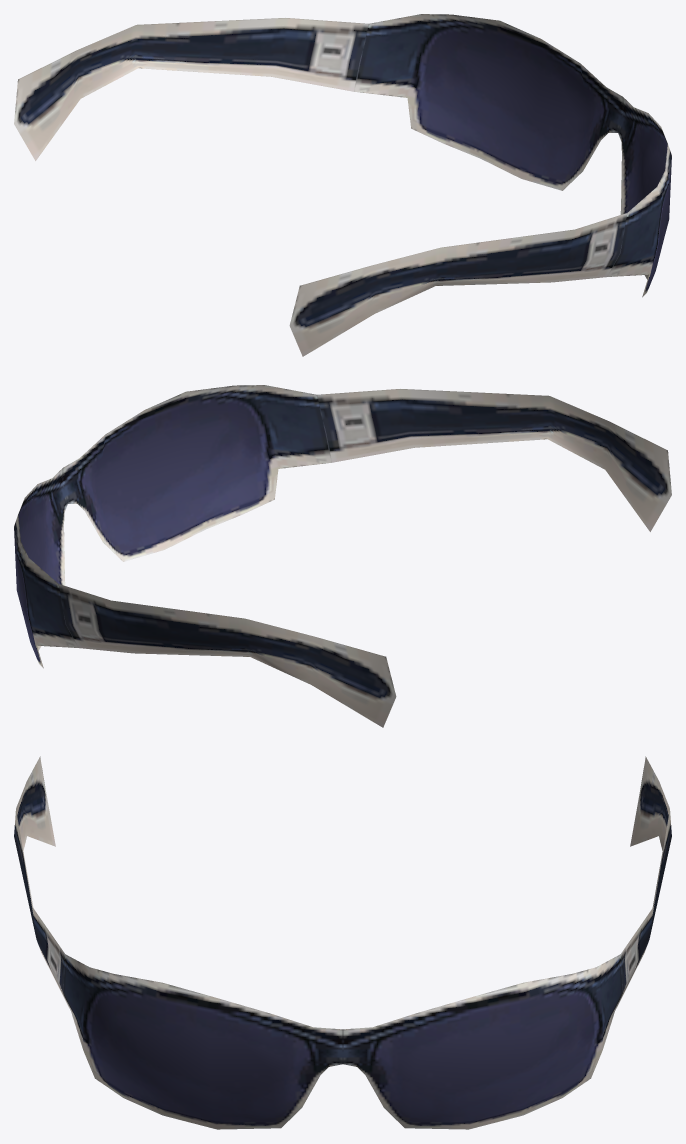
Rendered from acces_0640005.FBX.
The picture shows the model from 3 angles, top to bottom: view 1: azimuth 30°, elevation 25°; view 2: azimuth 150°, elevation 25°; view 3: azimuth 270°, elevation 25°; orthographic projection. The views are drawn at different scales.
Visible parts, largest first — view 1: acces_0640005; view 2: acces_0640005; view 3: acces_0640005.
Part boxes in pixels (x1,y1,x2,y2): acces_0640005: [14, 14, 671, 356]; acces_0640005: [14, 385, 671, 727]; acces_0640005: [14, 756, 671, 1129].
Bounding box in the file's own units: 19.42 × 6.16 × 21.85.
